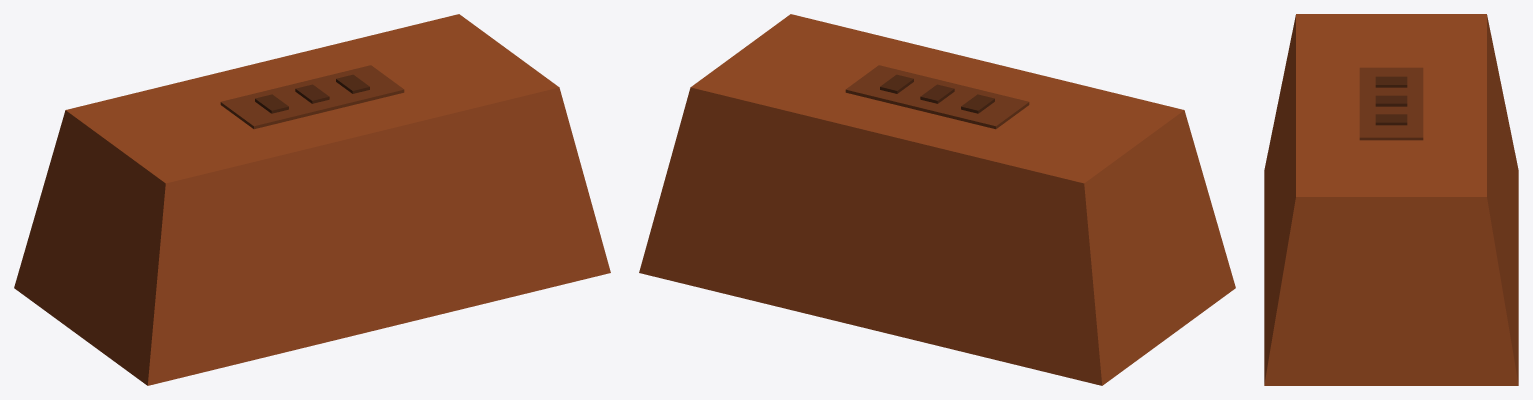
The model's file is copper_ingot.glb.
3 renders of one model, left to right at view 1: azimuth 30°, elevation 25°; view 2: azimuth 150°, elevation 25°; view 3: azimuth 270°, elevation 25°, orthographic. The views are drawn at different scales.
Visible parts, largest first — view 1: Mesh; view 2: Mesh; view 3: Mesh.
Part boxes in pixels (box(x1,y1,x2,y2)): Mesh: box(14, 14, 610, 385); Mesh: box(639, 14, 1235, 385); Mesh: box(1264, 14, 1518, 385).
Size of the model in its own units: 0.8 by 0.31 by 0.4.
